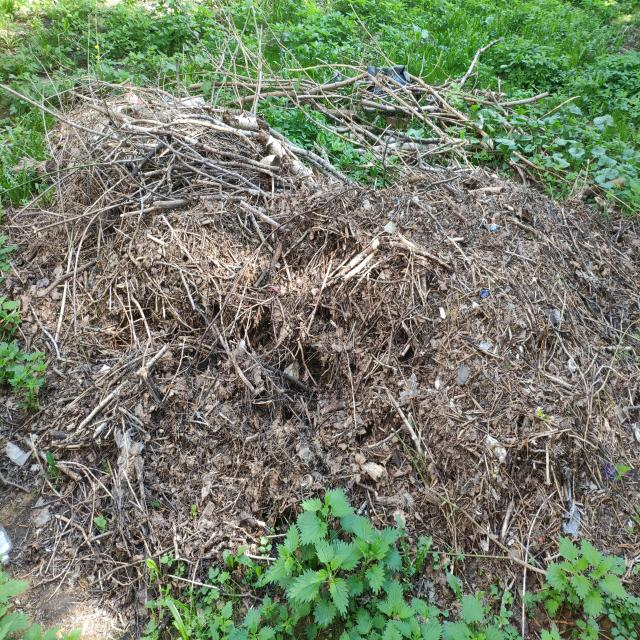lixo domiciliar: (5, 440, 33, 468)
restos de madeira: (185, 294, 271, 412), (555, 340, 636, 456), (433, 203, 518, 306), (2, 76, 127, 146), (206, 142, 296, 233), (533, 210, 630, 288), (212, 223, 280, 323), (116, 152, 202, 228), (365, 67, 447, 139), (104, 537, 218, 586), (454, 81, 572, 127), (573, 49, 640, 129), (394, 150, 476, 210), (73, 76, 207, 108), (271, 136, 355, 187), (166, 109, 268, 146), (382, 387, 427, 464), (302, 259, 343, 343), (321, 240, 388, 290), (23, 255, 99, 299), (477, 529, 546, 573), (48, 458, 111, 504), (48, 508, 106, 555), (450, 37, 497, 92), (304, 99, 368, 135), (28, 440, 64, 500), (463, 189, 509, 234), (218, 75, 309, 96), (74, 392, 118, 435), (404, 240, 456, 274), (296, 72, 371, 95), (119, 462, 147, 523), (29, 302, 61, 354), (235, 200, 282, 230), (95, 558, 143, 586), (35, 558, 76, 586), (129, 288, 151, 340), (598, 190, 639, 217), (274, 63, 359, 74), (11, 155, 53, 177), (140, 345, 168, 376), (512, 151, 549, 173), (0, 471, 34, 494), (542, 374, 579, 394), (149, 198, 193, 212), (557, 285, 569, 329), (361, 461, 386, 482), (525, 429, 568, 441), (243, 552, 278, 562), (476, 186, 508, 195), (545, 448, 551, 486)
